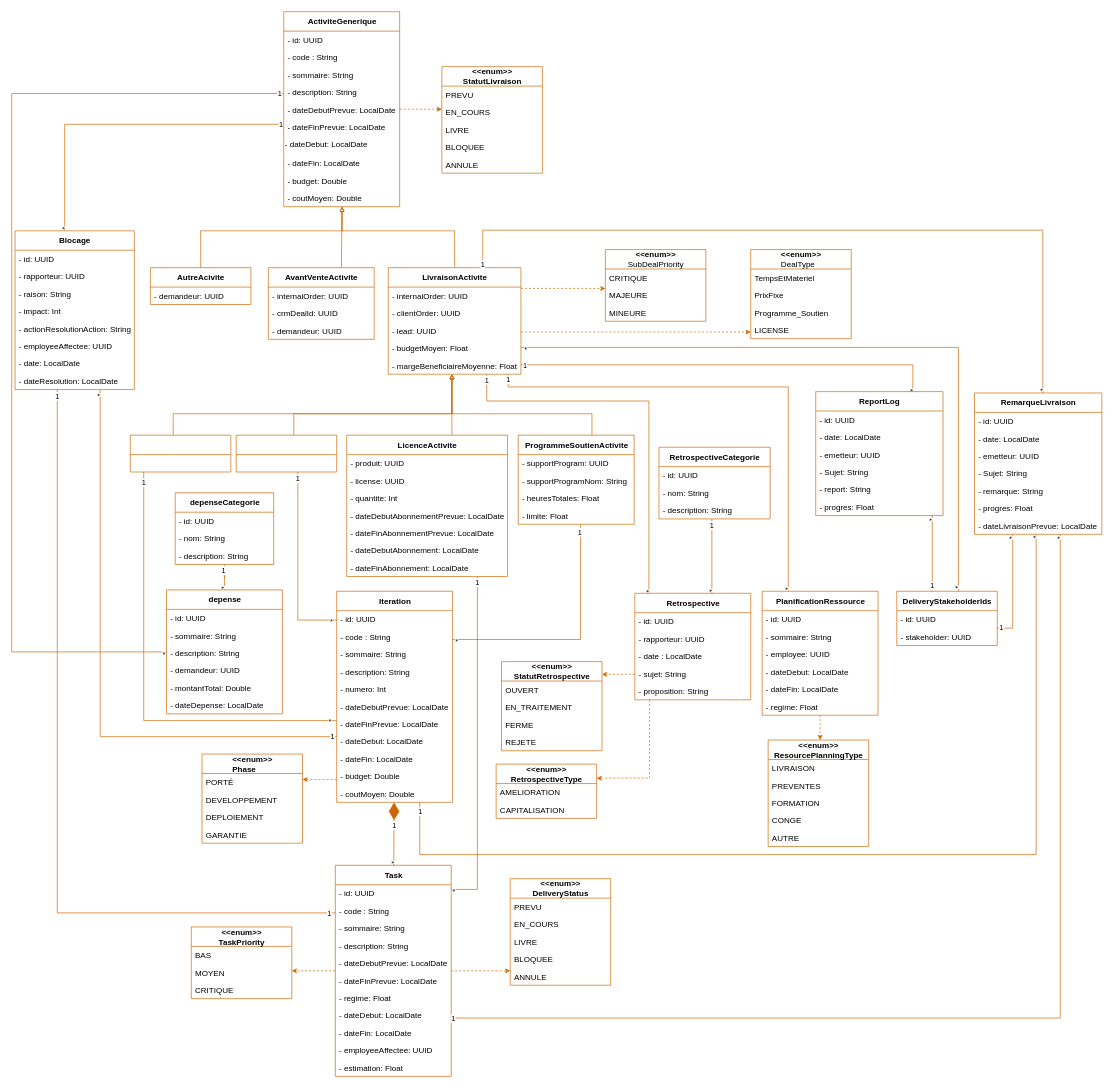
The diagram is 1114 pixels wide and 1090 high, and some of its shapes have lost their labels. The centre of each missing label's shape, as x and y in pixels:
"PrixFixe Activite" belongs at (x=286, y=453).
"TempsEtMateriel Activite" belongs at (x=180, y=453).
